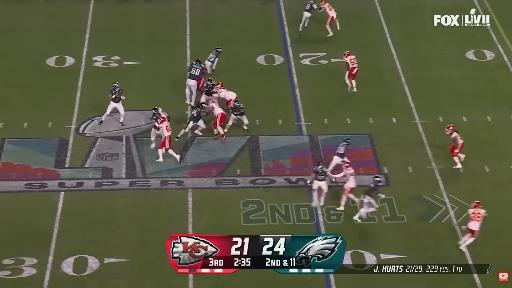Helmet: (445, 124, 455, 135), (472, 200, 483, 209), (342, 162, 351, 171), (152, 107, 160, 116), (375, 176, 383, 185), (343, 136, 351, 145), (315, 163, 324, 171), (201, 102, 209, 110), (216, 82, 224, 90), (195, 58, 202, 66), (206, 79, 212, 87), (344, 51, 350, 58), (234, 99, 240, 106), (113, 82, 119, 88), (159, 118, 165, 124), (215, 47, 221, 53), (321, 0, 327, 5), (310, 0, 315, 3)
Jersey: (335, 167, 356, 188), (468, 209, 486, 230), (188, 63, 205, 80), (158, 117, 171, 137), (189, 107, 205, 122), (364, 184, 381, 198), (217, 88, 236, 100), (230, 102, 245, 117), (109, 88, 123, 103), (150, 112, 169, 123), (313, 167, 327, 181), (322, 3, 336, 17), (210, 103, 225, 116), (345, 55, 358, 68), (207, 50, 221, 62), (451, 132, 463, 145), (304, 1, 317, 13), (336, 144, 347, 158), (204, 89, 217, 97)
Player: (329, 159, 358, 210), (353, 176, 385, 221), (459, 201, 486, 250), (175, 103, 207, 140), (99, 82, 124, 125), (157, 116, 180, 162), (186, 59, 206, 105), (308, 163, 327, 206), (446, 125, 465, 168), (225, 99, 249, 132), (150, 107, 169, 148), (328, 138, 349, 172), (209, 101, 226, 140), (321, 0, 339, 36), (300, 0, 318, 34), (344, 51, 358, 92), (216, 83, 237, 108), (205, 47, 221, 74), (200, 79, 217, 103)
